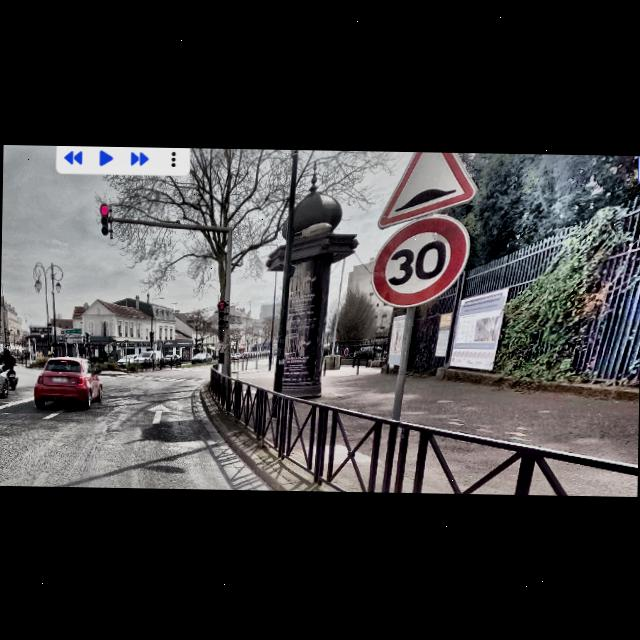speed_30: (370, 210, 472, 312)
